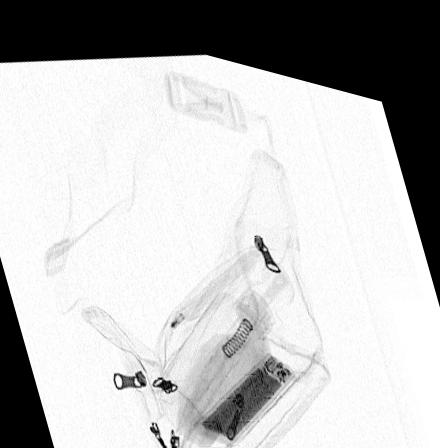Powerbank: (194, 335, 296, 434)
